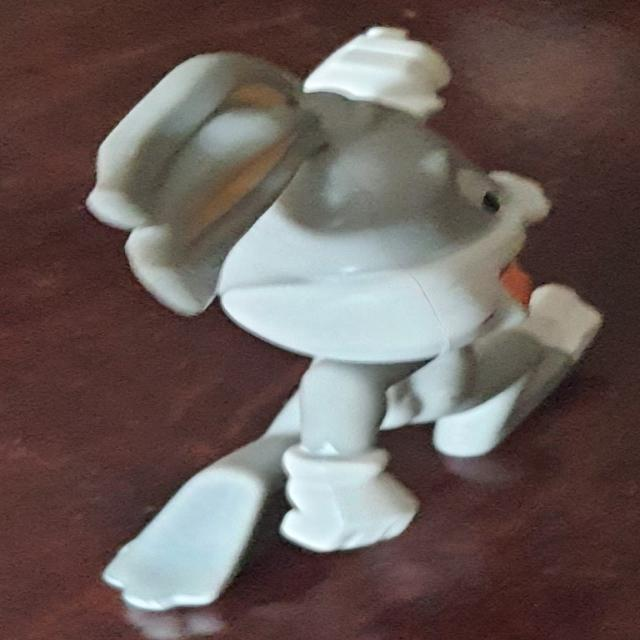Rabbit: (82, 27, 604, 613)
